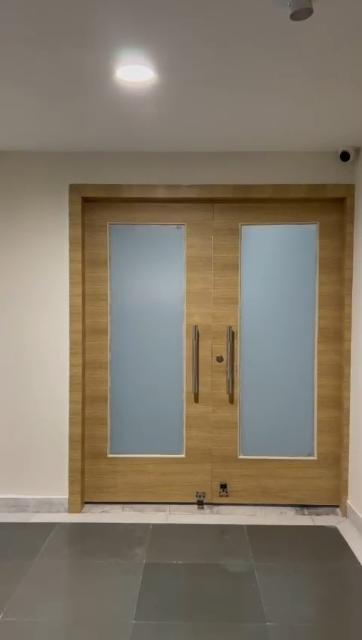door: (67, 190, 341, 512)
floor: (0, 507, 362, 640)
wall: (0, 153, 64, 492)
